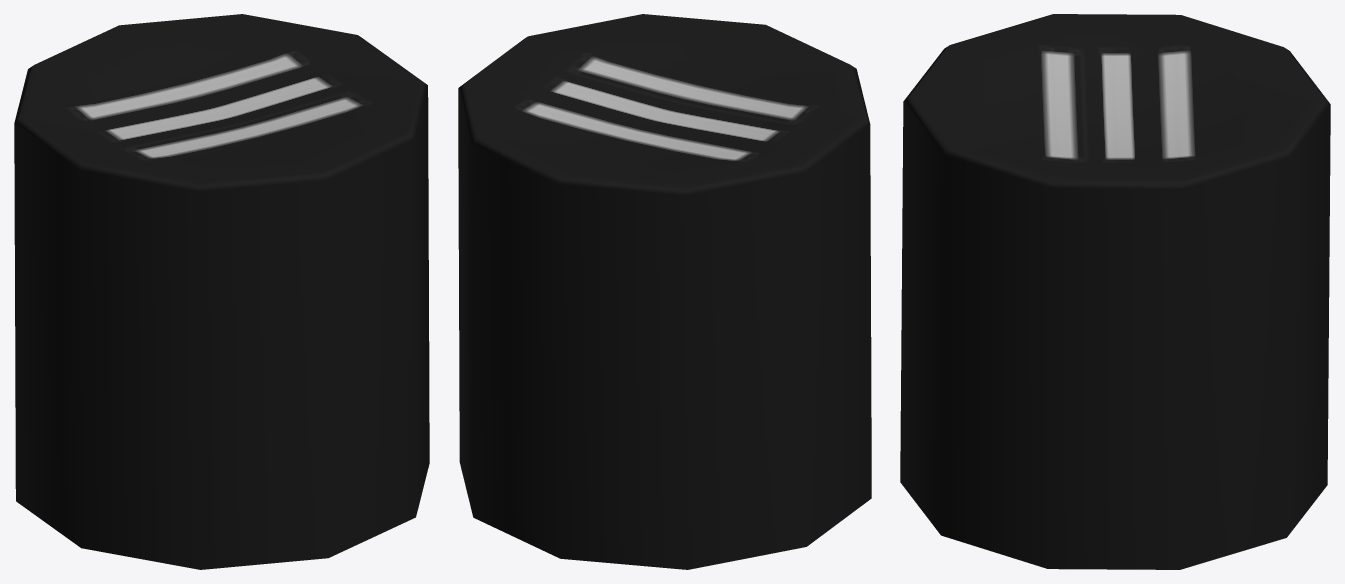
The model's file is crystal_controller_left_button4.obj.
The picture shows the model from 3 angles, left to right: view 1: azimuth 30°, elevation 25°; view 2: azimuth 150°, elevation 25°; view 3: azimuth 270°, elevation 25°; orthographic projection.
Parts seen in each view (by area): view 1: crystal_controller_left_button4; view 2: crystal_controller_left_button4; view 3: crystal_controller_left_button4.
Boxes of the visible parts, <box> form: crystal_controller_left_button4: <box>14,14,429,569</box>; crystal_controller_left_button4: <box>458,14,871,569</box>; crystal_controller_left_button4: <box>900,14,1330,569</box>.
Size of the model in its own units: 0.00935 by 0.00988 by 0.0099.
1 material, 1 textured.
